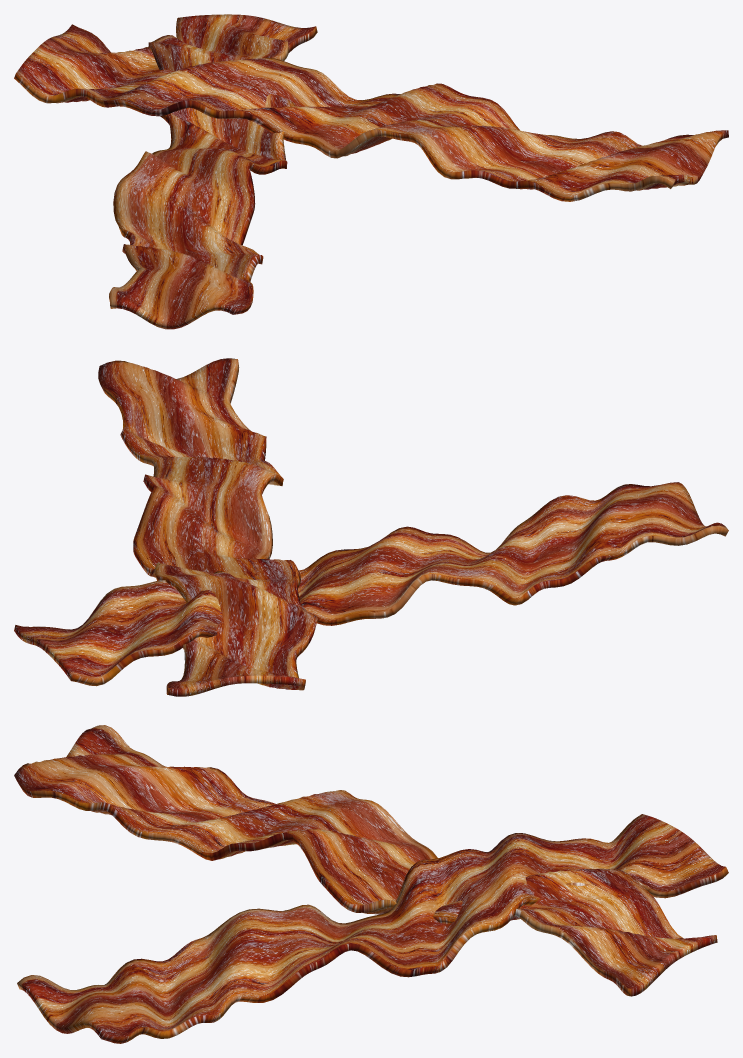
The model's file is bacon.glb.
3 renders of one model, top to bottom at view 1: azimuth 30°, elevation 25°; view 2: azimuth 150°, elevation 25°; view 3: azimuth 270°, elevation 25°, orthographic. The views are drawn at different scales.
Parts seen in each view (by area): view 1: Bacon strip 2, Bacon strip 1; view 2: Bacon strip 2, Bacon strip 1; view 3: Bacon strip 2, Bacon strip 1.
Boxes of the visible parts, bbox=[...] form: Bacon strip 2: bbox=[14, 24, 728, 201]; Bacon strip 1: bbox=[109, 14, 317, 329]; Bacon strip 2: bbox=[98, 358, 317, 696]; Bacon strip 1: bbox=[14, 482, 728, 686]; Bacon strip 2: bbox=[17, 814, 728, 1043]; Bacon strip 1: bbox=[14, 725, 717, 996].
Bounding box in the file's own units: 2.2 × 0.1975 × 2.05.
1 material, 1 textured.
